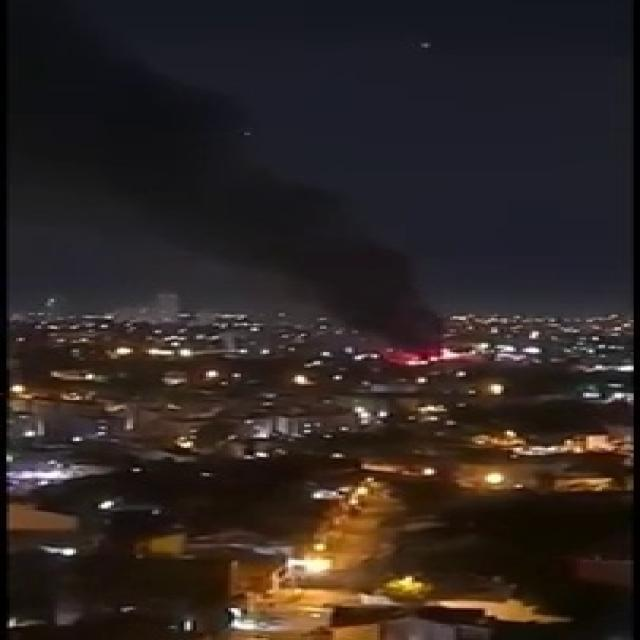Smoke: (12, 9, 478, 361)
